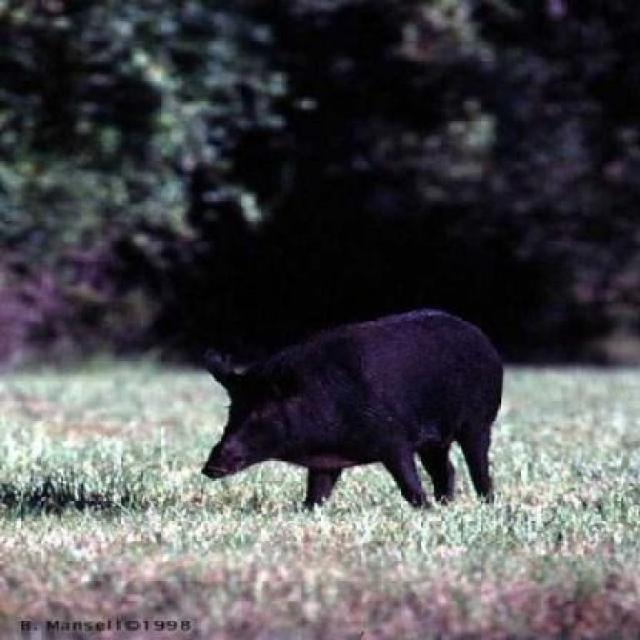Boar: (172, 321, 583, 534)
